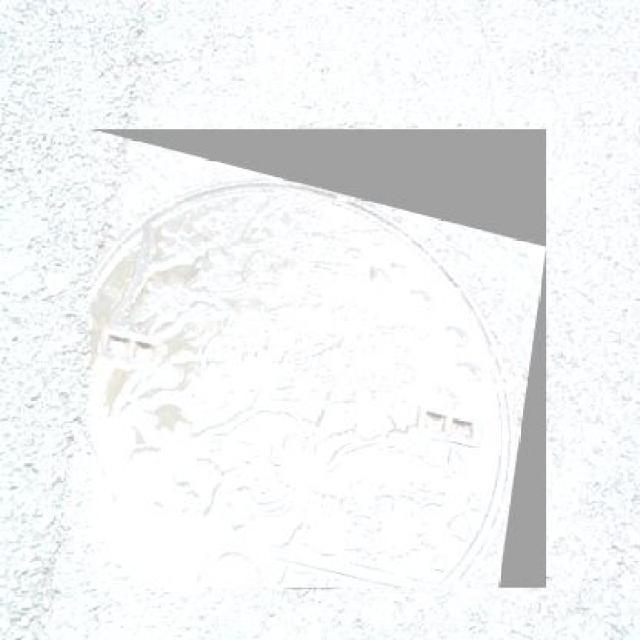Manhole: (90, 130, 546, 589)
